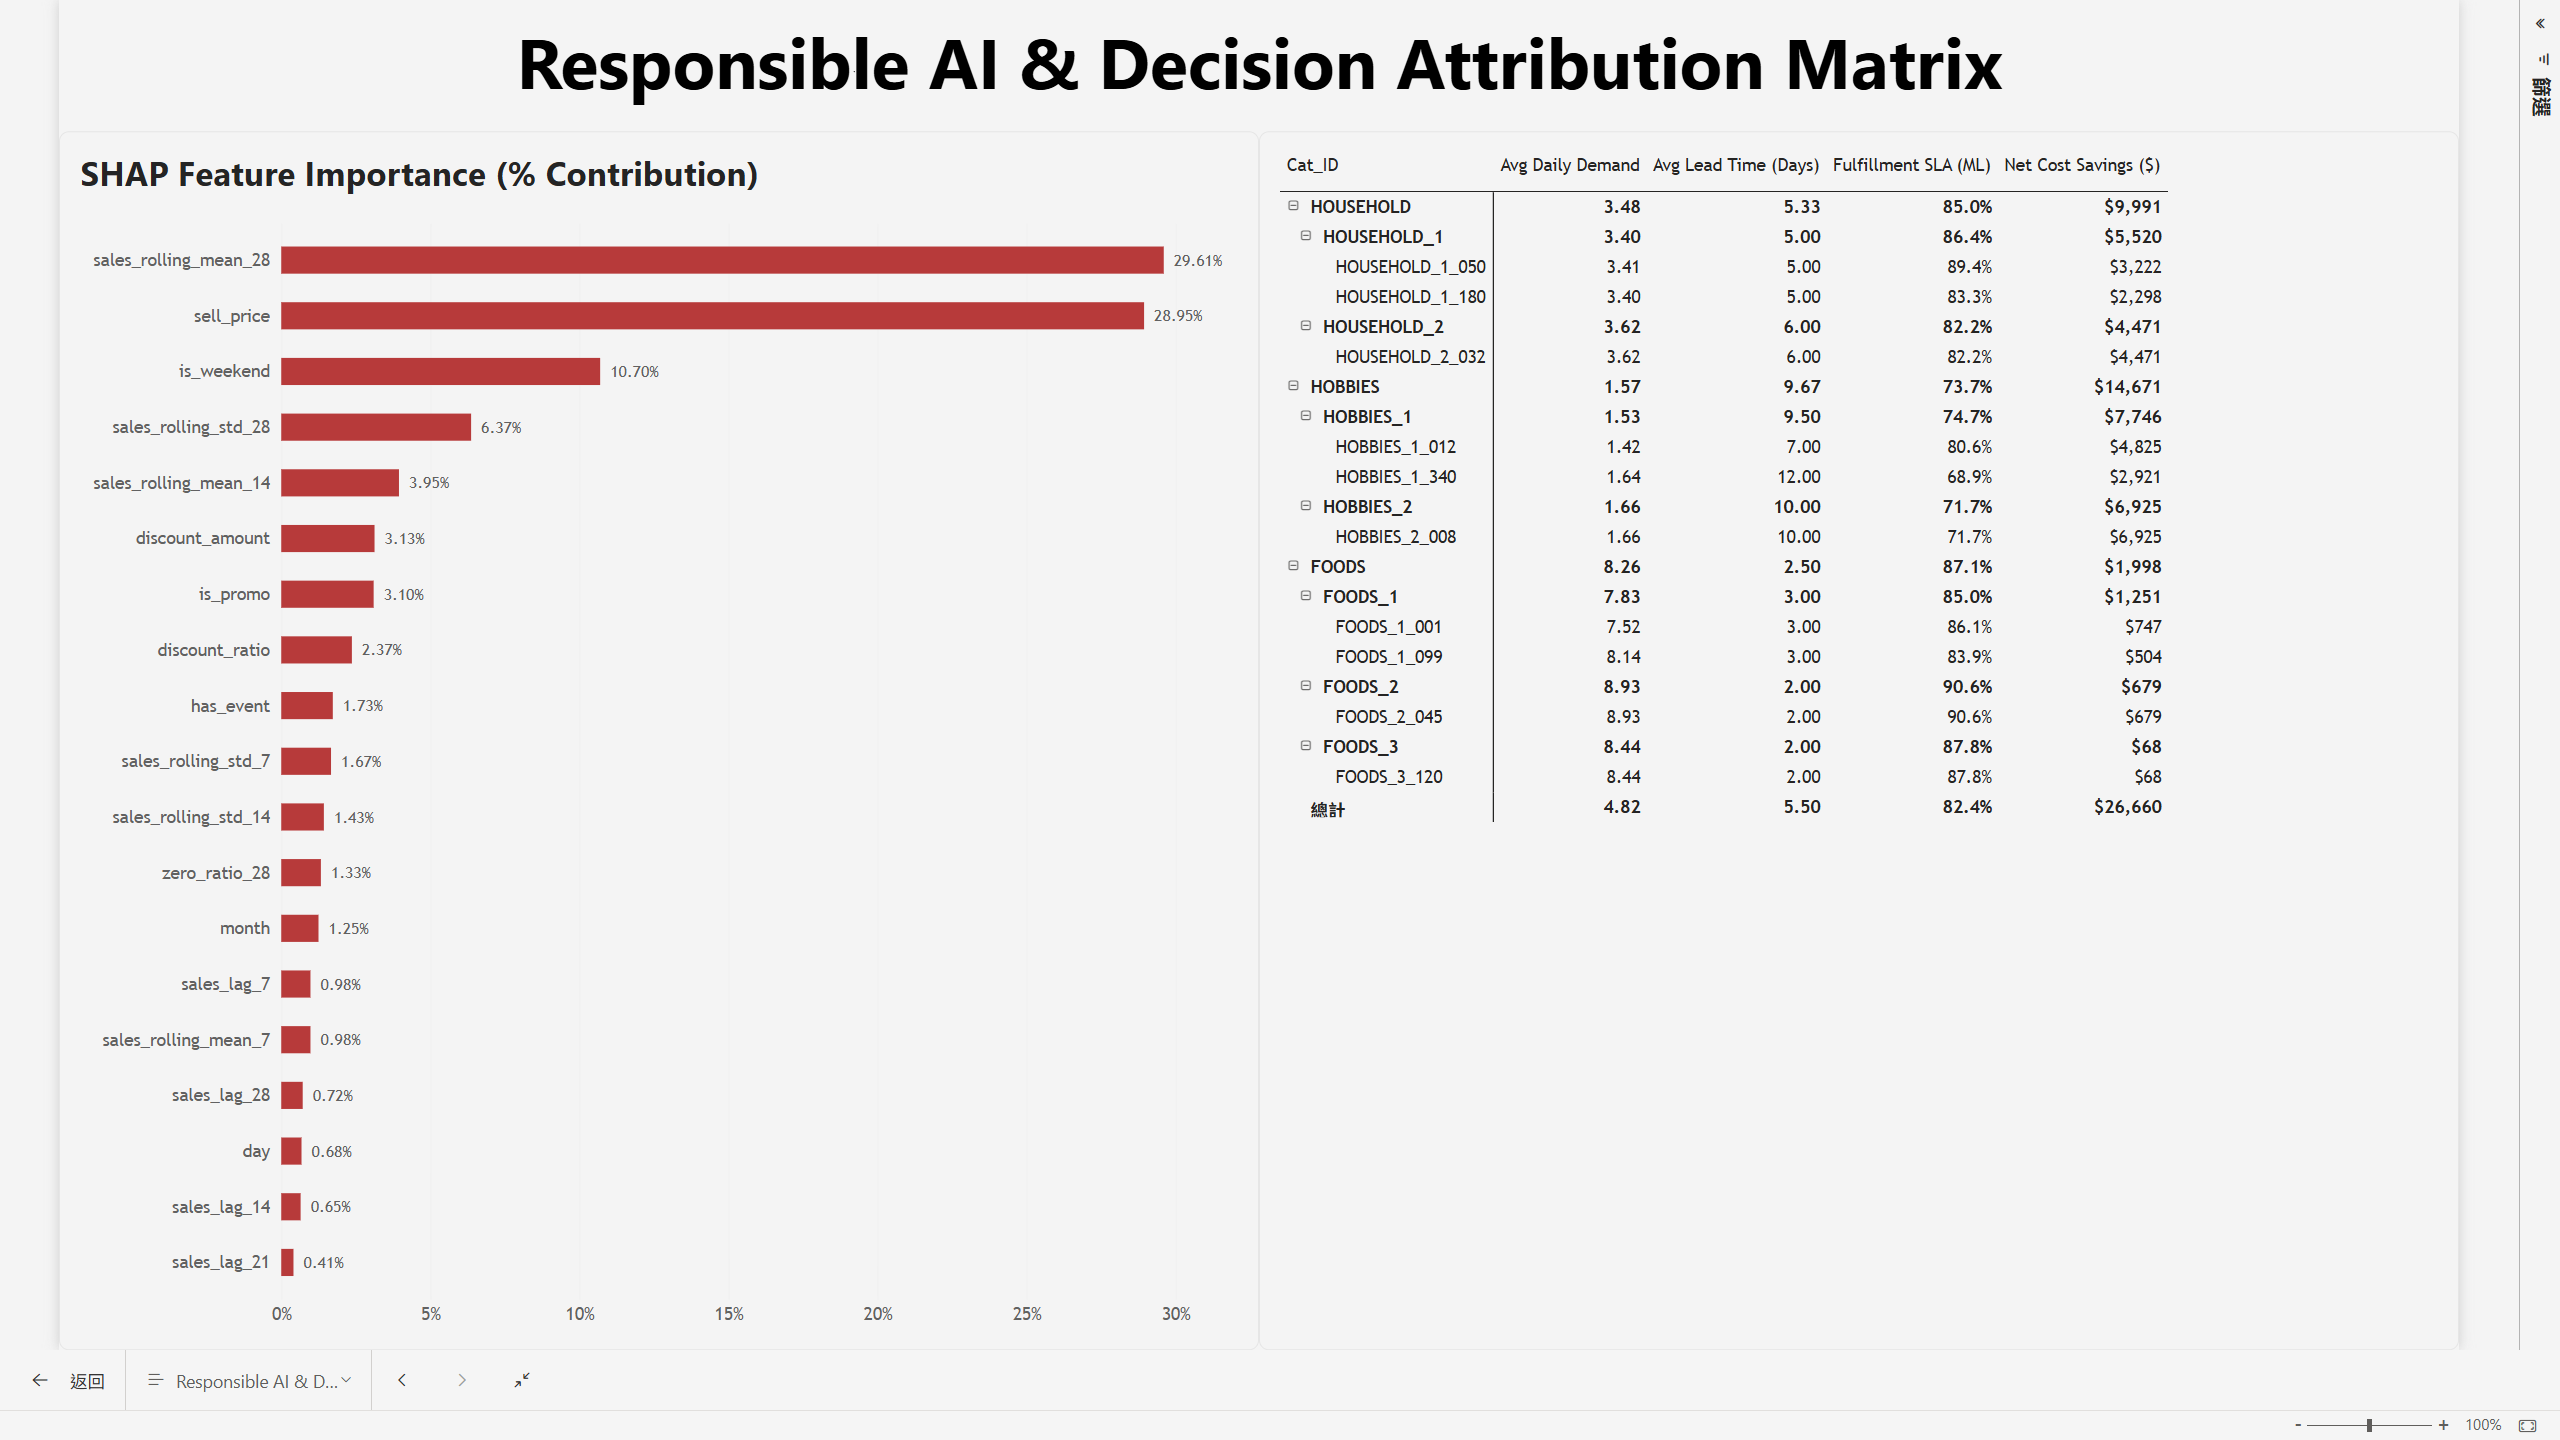

The dashboard page shown, as its layout file describes it:
{"tool":"powerbi","page":{"name":"Responsible AI & Decision Attribution Matrix","canvas":[1920,1080],"ordinal":3},"visuals":[{"type":"clusteredBarChart","title":"SHAP Feature Importance (% Contribution)","fields":{"Category":["shap_feature_importance.Feature"],"Y":["Sum(shap_feature_importance.Contribution_Pct)"]},"box":[0,105,960,975],"z":0},{"type":"pivotTable","fields":{"Rows":["Dim_Product.Cat_ID","Dim_Product.Dept_ID","Dim_Product.Item_ID"],"Values":["_Measures.Average Daily Demand","Avg(Dim_Product.Lead_Time_Days)","_Measures.Service Level % (ML Quantile)","_Measures.Net Cost Savings ($)"]},"box":[960,105,960,975],"z":1000},{"type":"textbox","box":[0,10,1920,96],"z":2000}]}

Visuals, with their boxes on the page's 1920x1080 design canvas (x1, y1, x2, y2). These are canvas units, not pixel positions in the 2560x1440 screenshot, which may show the page scaled, cropped or inside an application window:
"SHAP Feature Importance (% Contribution)" clusteredBarChart: 0, 105, 960, 1080
pivotTable - Dim_Product.Cat_ID x Dim_Product.Dept_ID: 960, 105, 1920, 1080
textbox: 0, 10, 1920, 106
